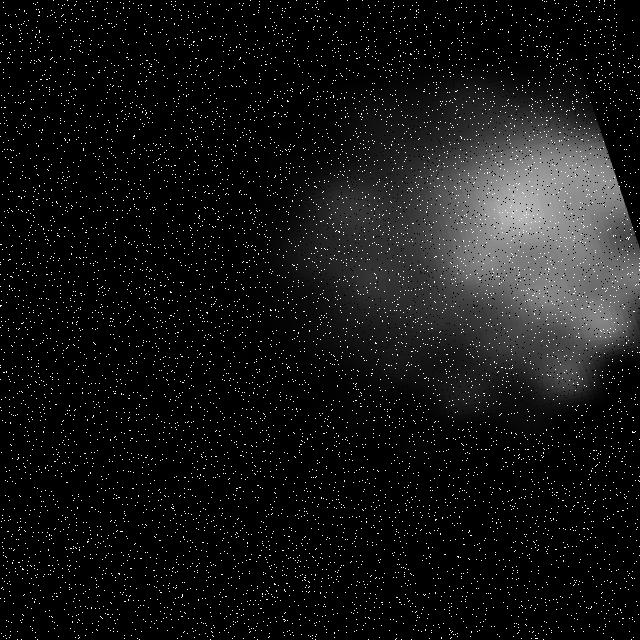person: (130, 8, 640, 480)
